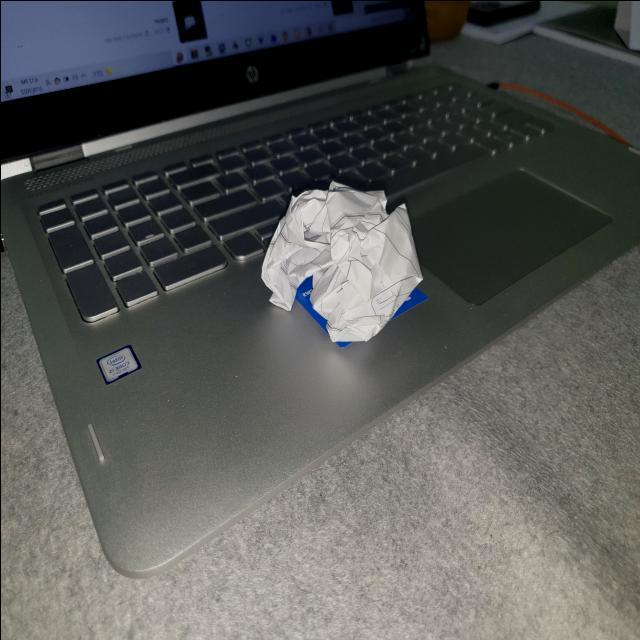Paper: (256, 168, 427, 344)
